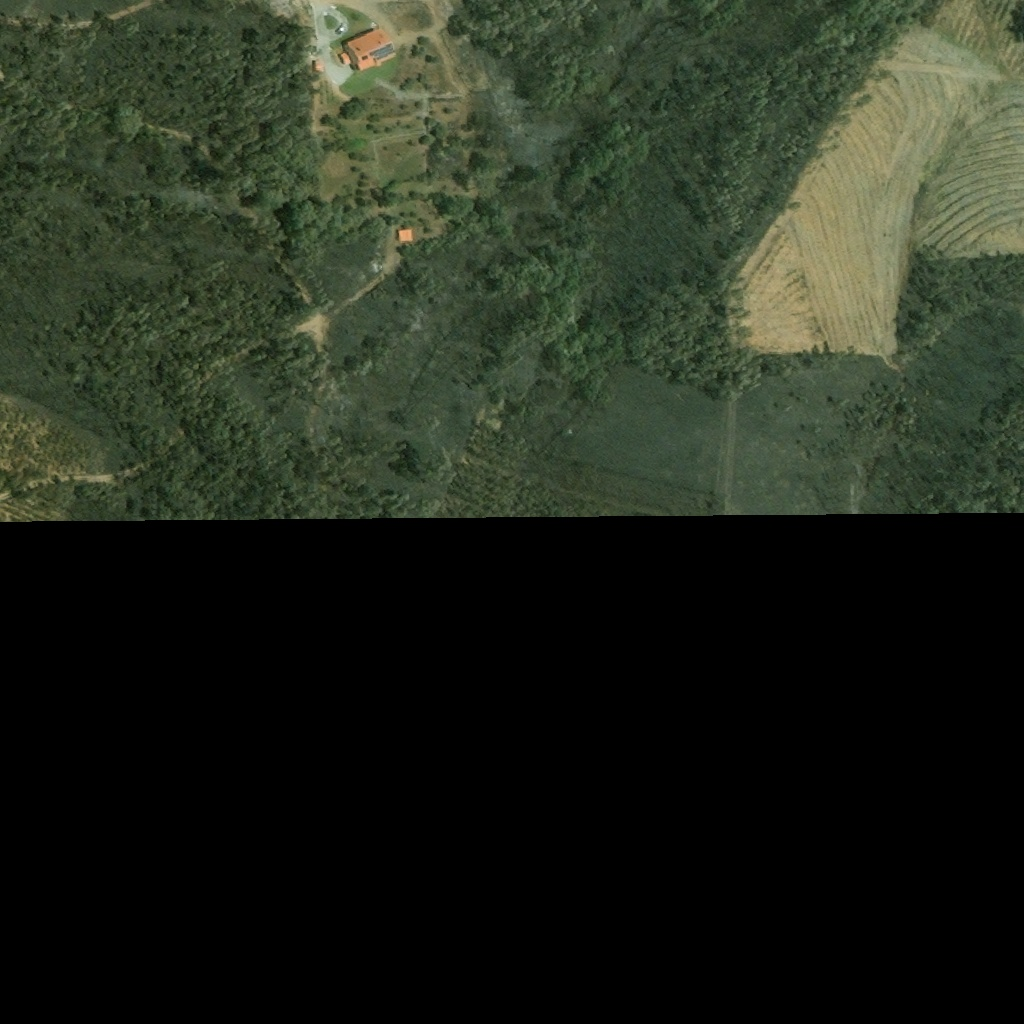0 no-damage: (338, 27, 397, 74), (398, 229, 412, 242), (313, 60, 325, 74)
